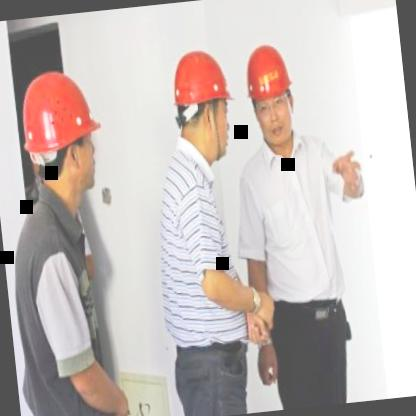helmet: (15, 62, 109, 210), (168, 44, 238, 164), (241, 37, 302, 152)
